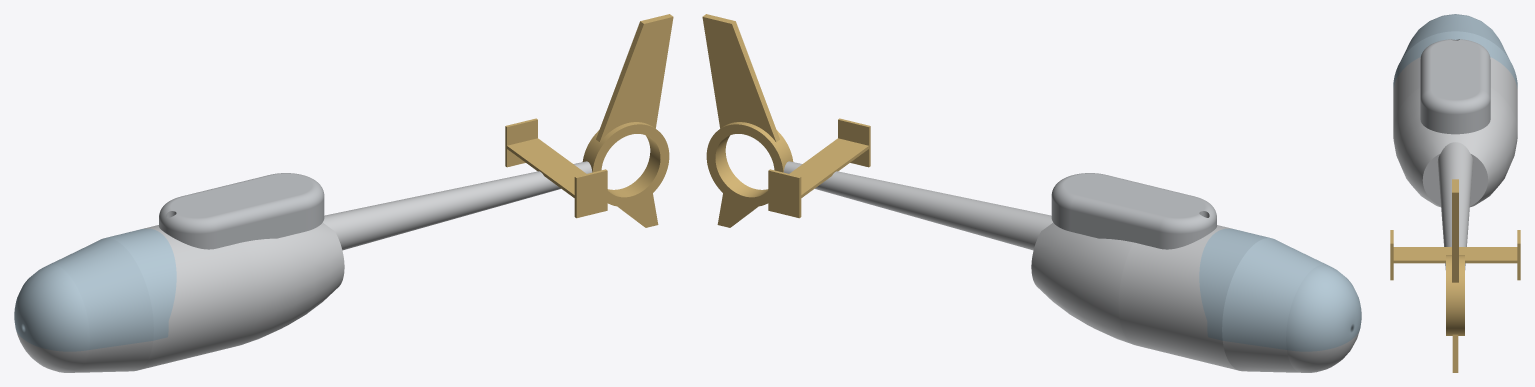
File: step_15.glb
3 renders of one model, left to right at view 1: azimuth 30°, elevation 25°; view 2: azimuth 150°, elevation 25°; view 3: azimuth 270°, elevation 25°, orthographic. The views are drawn at different scales.
Parts seen in each view (by area): view 1: part__fuselage, part__canopy glazing, part__engine cowling, part__fin and fan duct, part__tail boom, part__horizontal stabiliser; view 2: part__fuselage, part__canopy glazing, part__engine cowling, part__fin and fan duct, part__tail boom, part__horizontal stabiliser; view 3: part__fuselage, part__engine cowling, part__canopy glazing, part__tail boom, part__fin and fan duct, part__horizontal stabiliser.
Part boxes in pixels (box(x1,y1,x2,y2)): part__fuselage: box(16, 222, 344, 372); part__canopy glazing: box(14, 228, 176, 351); part__engine cowling: box(159, 173, 324, 249); part__fin and fan duct: box(582, 14, 673, 227); part__tail boom: box(323, 161, 592, 250); part__horizontal stabiliser: box(505, 118, 607, 218); part__fuselage: box(1031, 222, 1358, 372); part__canopy glazing: box(1199, 228, 1361, 351); part__engine cowling: box(1051, 173, 1216, 249); part__fin and fan duct: box(702, 14, 793, 227); part__tail boom: box(783, 161, 1052, 250); part__horizontal stabiliser: box(768, 118, 870, 218); part__fuselage: box(1393, 57, 1517, 207); part__engine cowling: box(1420, 39, 1490, 134); part__canopy glazing: box(1393, 14, 1517, 88); part__tail boom: box(1437, 142, 1473, 269); part__fin and fan duct: box(1446, 179, 1464, 372); part__horizontal stabiliser: box(1390, 230, 1520, 280).
Size of the model in its own units: 8773 by 2800 by 1670.
